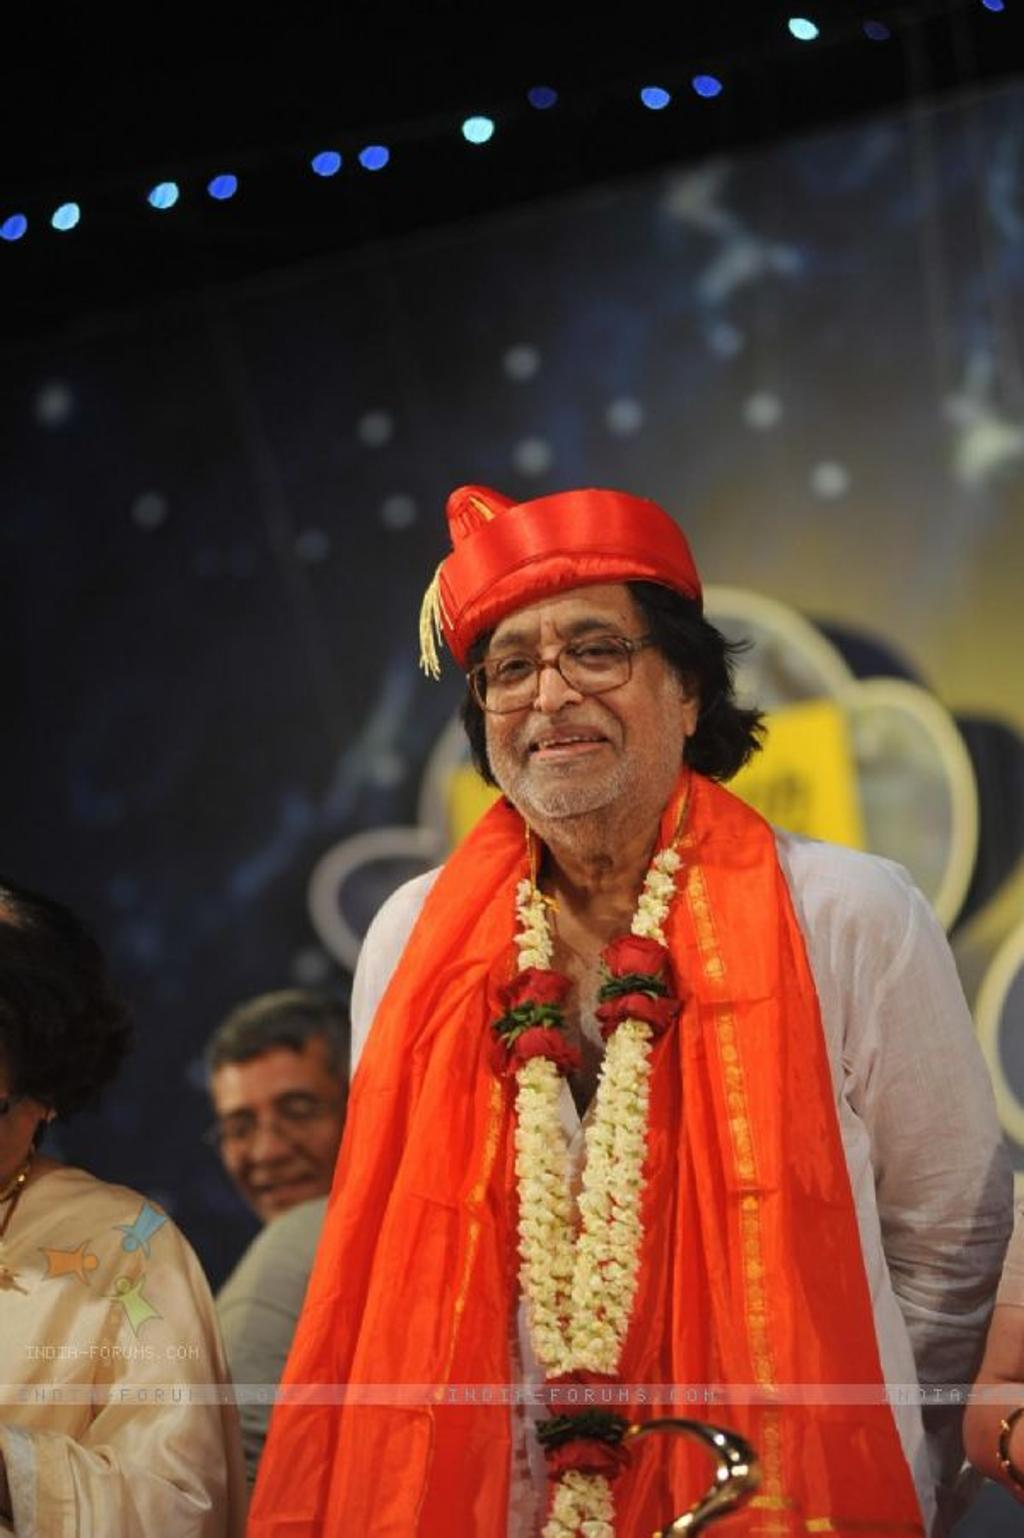face: (483, 562, 681, 808), (216, 1042, 351, 1228)
